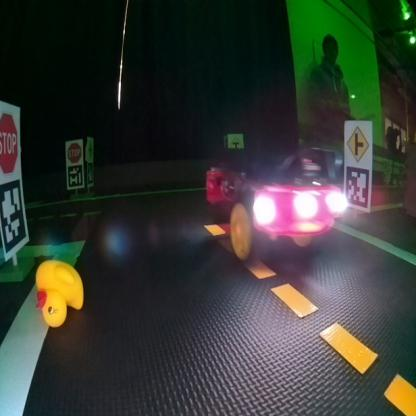duckie: (25, 255, 89, 332)
duckiebot: (201, 138, 354, 268)
